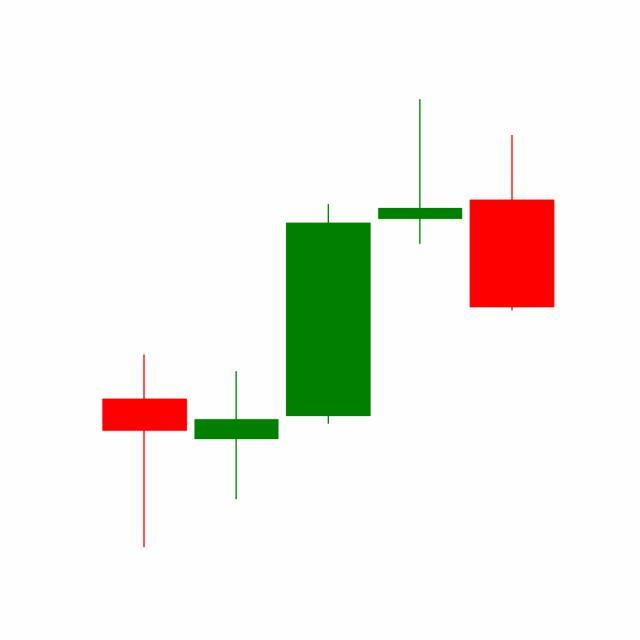Evening Star: (280, 99, 555, 428)
